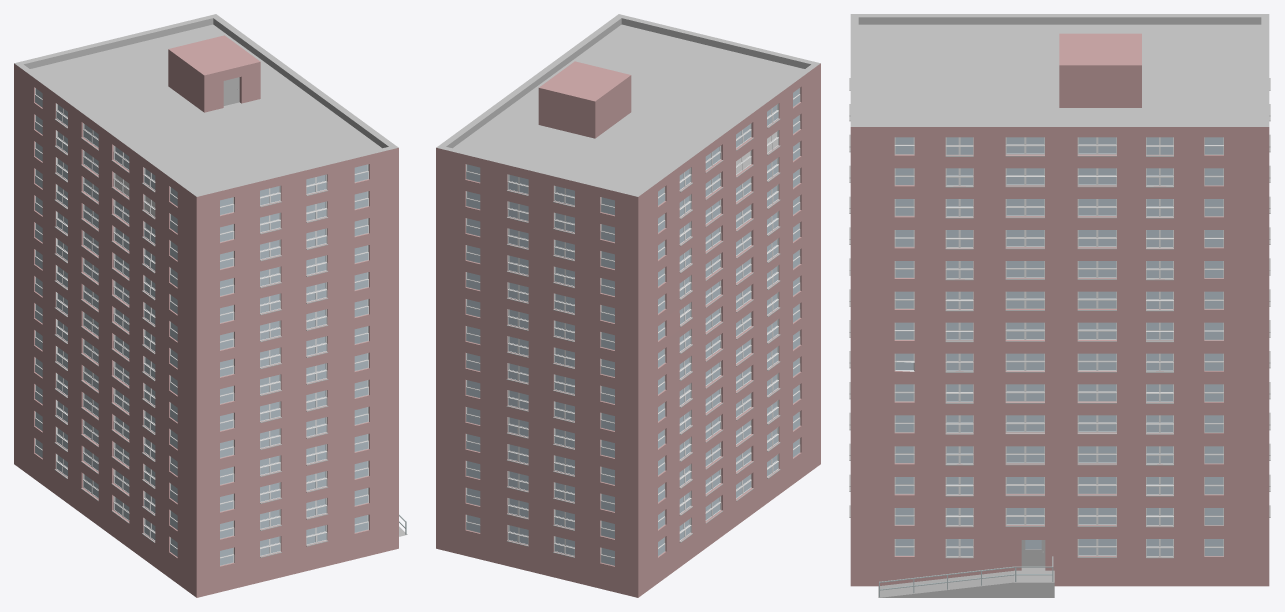
File: apartment_2.glb
The picture shows the model from 3 angles, left to right: view 1: azimuth 30°, elevation 25°; view 2: azimuth 150°, elevation 25°; view 3: azimuth 270°, elevation 25°; orthographic projection. The views are drawn at different scales.
Visible parts, largest first — view 1: Building_J; view 2: Building_J; view 3: Building_J.
Part boxes in pixels (box(x1,y1,x2,y2)): Building_J: box(14, 14, 407, 597); Building_J: box(436, 14, 820, 597); Building_J: box(849, 14, 1270, 597).
Size of the model in its own units: 0.8701 by 1.6 by 1.24.
